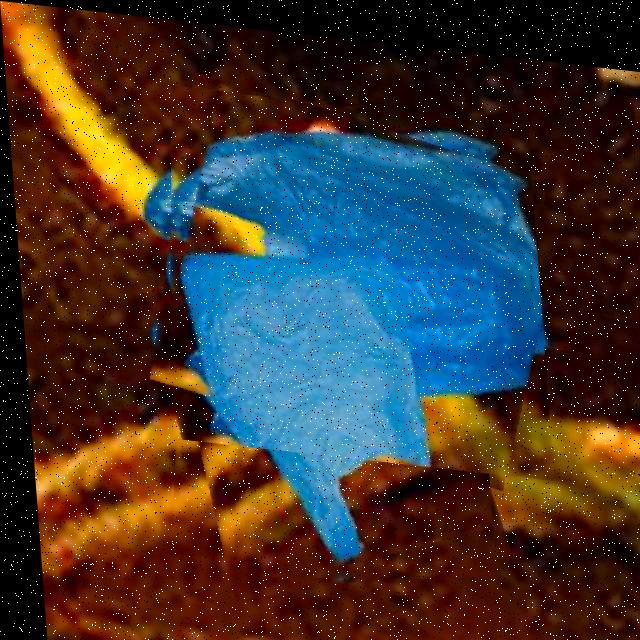litter: (142, 78, 548, 468), (142, 229, 491, 602)
